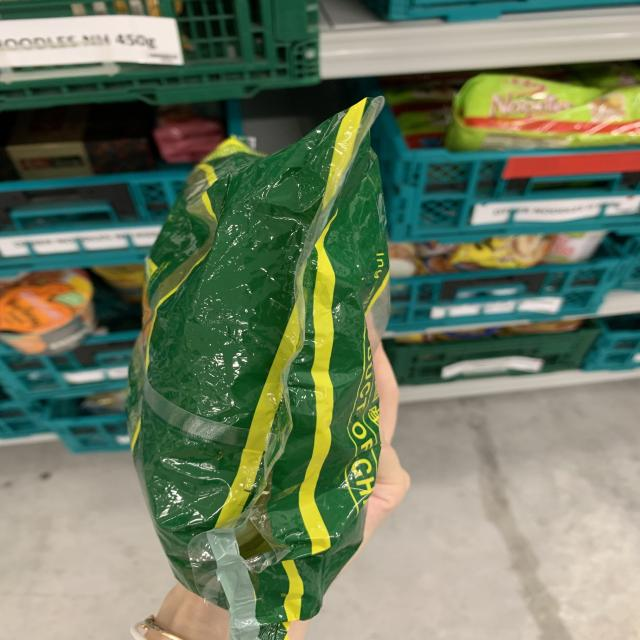object_name: (170, 140, 373, 616)
